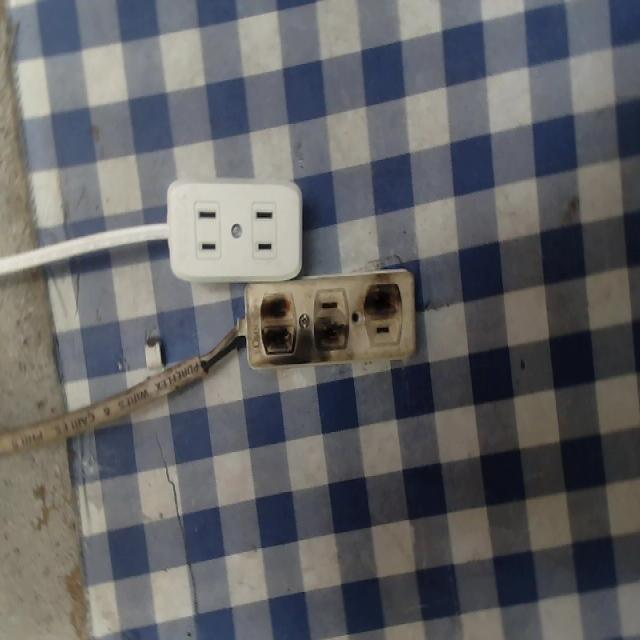-: (254, 284, 302, 376), (361, 273, 409, 320), (313, 319, 352, 361)
